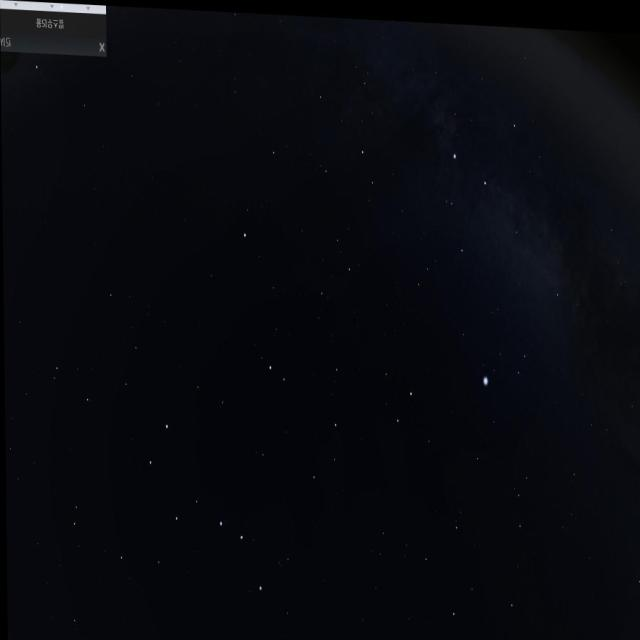cygnus: (441, 104, 566, 307)
lyra: (482, 328, 535, 388)
ursa_major: (134, 413, 274, 602)
